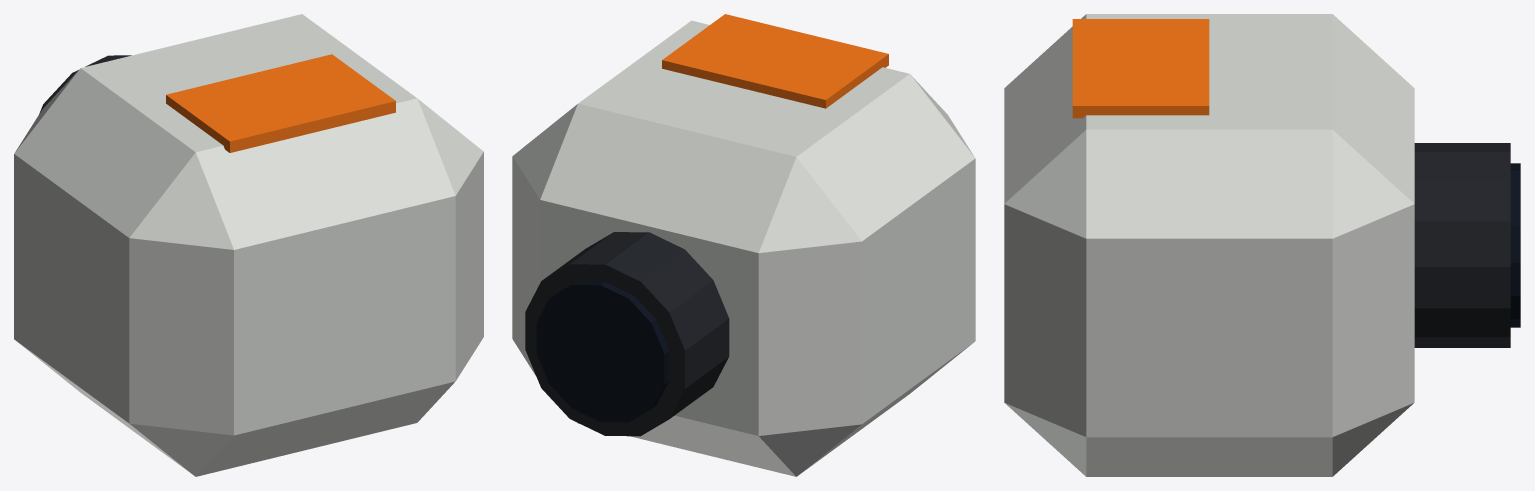
The model's file is drone_mk2_gimbal_pitch.glb.
3 renders of one model, left to right at view 1: azimuth 30°, elevation 25°; view 2: azimuth 150°, elevation 25°; view 3: azimuth 270°, elevation 25°, orthographic. The views are drawn at different scales.
Parts seen in each view (by area): view 1: Camera; view 2: Camera; view 3: Camera.
Boxes of the visible parts, bbox=[...] form: Camera: bbox=[14, 14, 483, 476]; Camera: bbox=[512, 14, 975, 476]; Camera: bbox=[1004, 14, 1520, 476].
Bounding box in the file's own units: 0.064 × 0.0575 × 0.0755.
